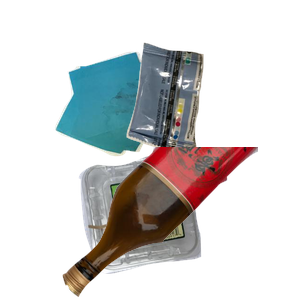glass: (60, 147, 300, 300)
paper: (52, 49, 209, 198)
plastic: (76, 151, 270, 300)
trash: (124, 40, 300, 188)
